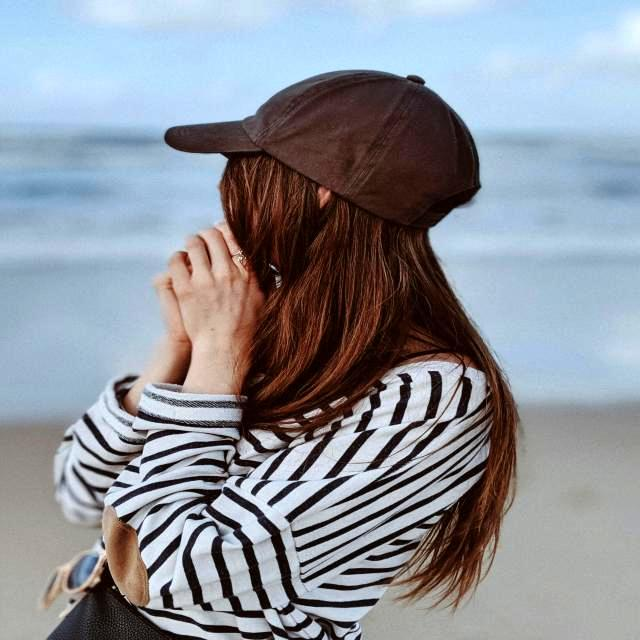no_hard_hat: (165, 70, 480, 228)
person: (48, 70, 518, 640)
